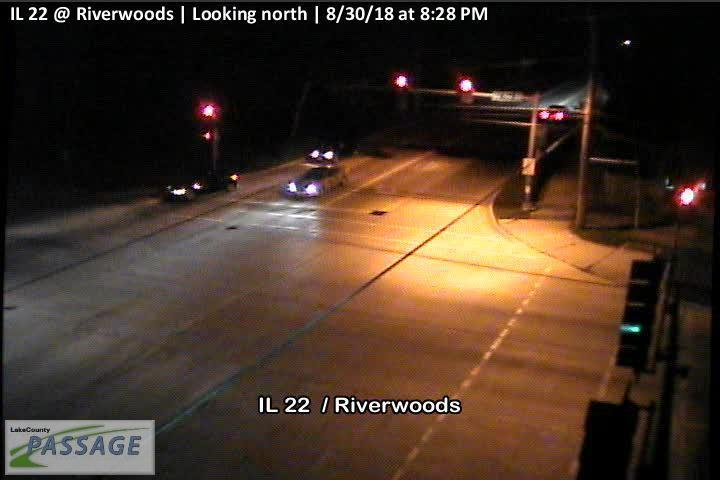Sedan: (161, 172, 240, 203), (280, 168, 347, 199)
